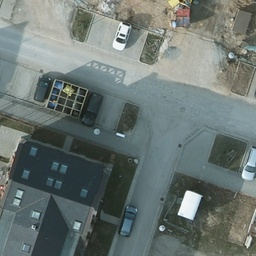car: (80, 93, 103, 128), (119, 205, 136, 238), (111, 22, 131, 50), (34, 75, 52, 102)
